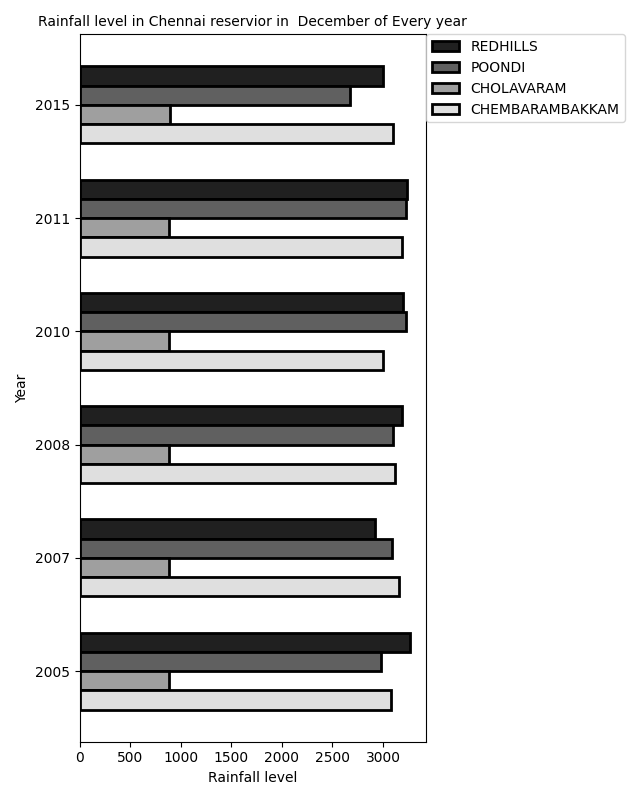canvas: (79, 41, 424, 725)
legend: (429, 37, 621, 118)
title: (37, 6, 470, 33)
x-axis: (72, 735, 436, 749)
x-labels: (72, 749, 408, 767)
x-title: (204, 769, 305, 788)
y-axis: (73, 32, 83, 756)
y-labels: (31, 74, 71, 694)
y-title: (10, 363, 29, 417)
